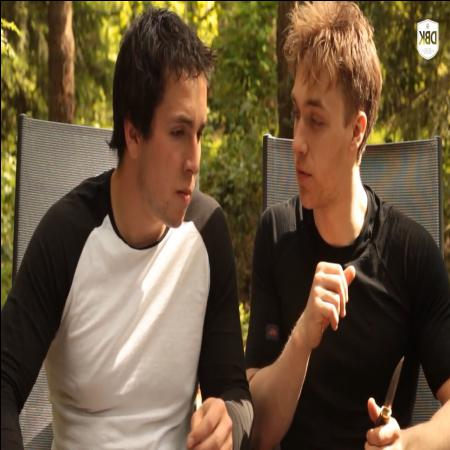long weapon: (360, 346, 406, 450)
